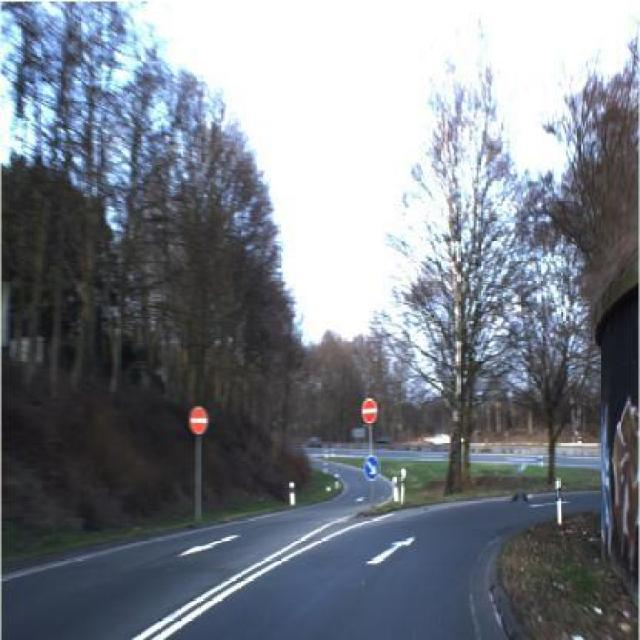traffic_sign: (187, 402, 210, 440), (359, 396, 379, 426), (363, 452, 382, 483)
